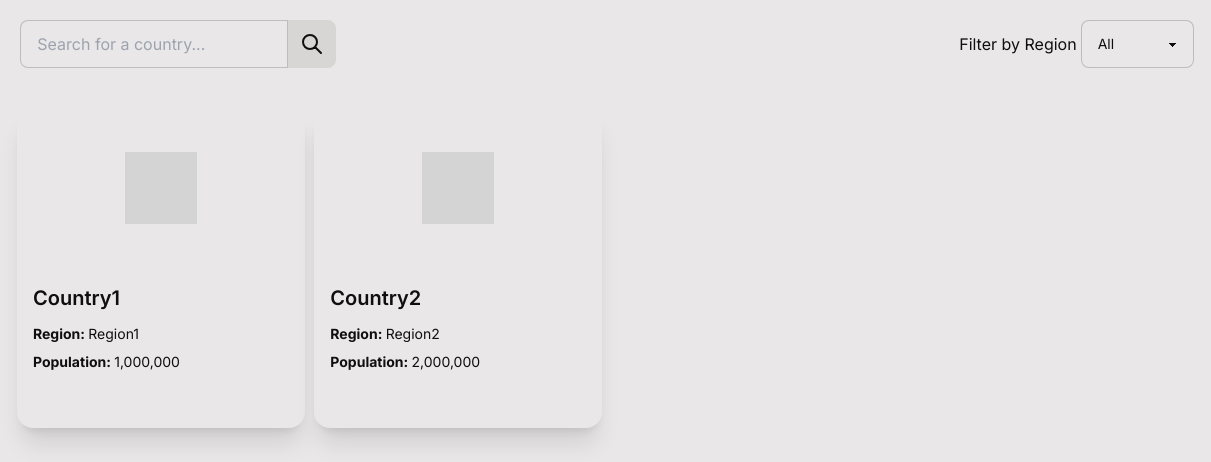
Test: Home component › filters countries by search
expect the link "Country1" is shown: met, box [33,284,120,312]
Type "Country1" into the field with placeholder "Search for a country...". click: (154, 44)
box: [20,20,288,68]
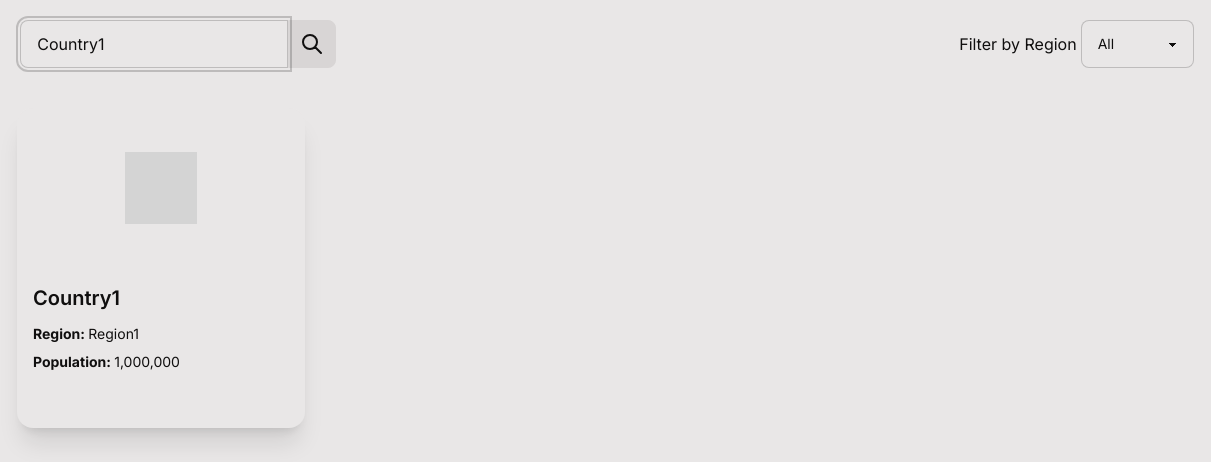
expect the link "Country1" is shown: met, box [33,284,120,312]
expect the link "Country2" is gone: met
